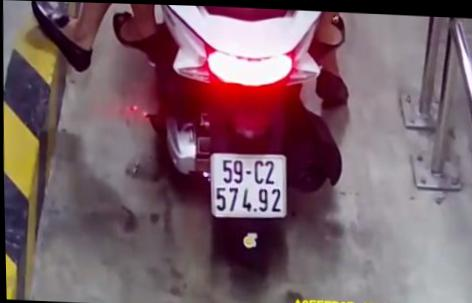LP: (204, 148, 288, 219)
